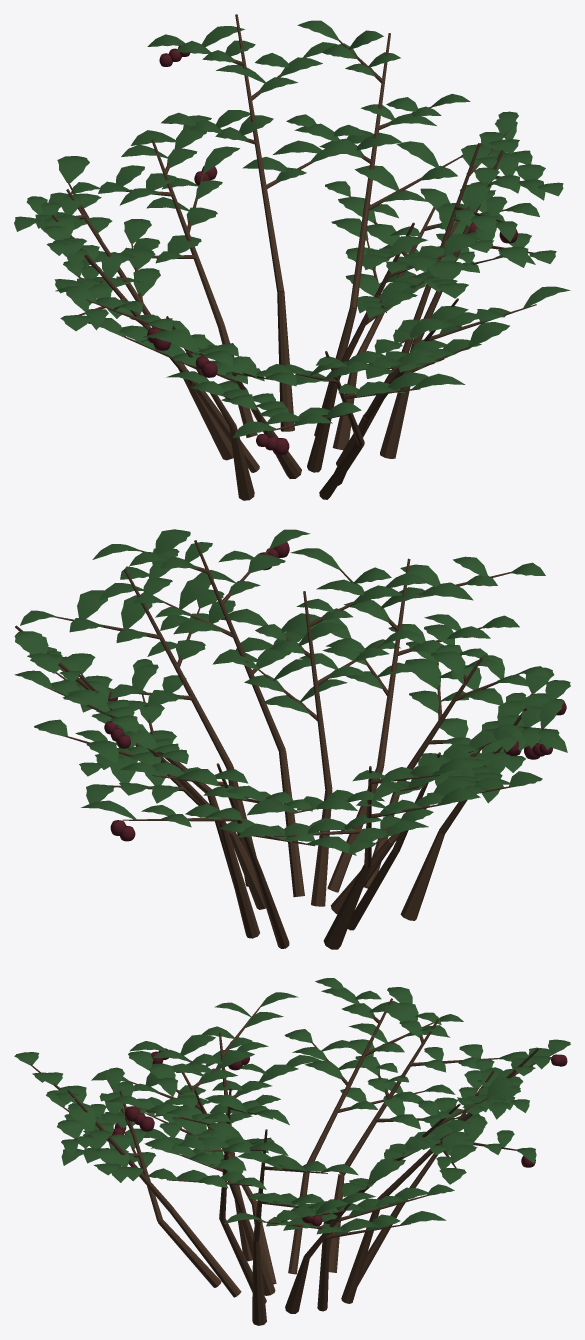
Rendered from detail_shrub.glb.
The picture shows the model from 3 angles, top to bottom: view 1: azimuth 30°, elevation 25°; view 2: azimuth 150°, elevation 25°; view 3: azimuth 270°, elevation 25°; orthographic projection. The views are drawn at different scales.
Visible parts, largest first — view 1: IndividualShrubLeaves, Cone.067, Cone.019, Cone.066, Cone, Cone.037, Cone.060, Cone.006, Cone.072, Cone.031, Cone.054, Cone.042 (+1 smaller); view 2: IndividualShrubLeaves, Cone.066, Cone.006, Cone.001, Cone.072, Cone.031, Cone.030, Cone.061, Cone.013, Cone.060, Cone.048, Cone.012 (+4 smaller); view 3: IndividualShrubLeaves, Cone, Cone.012, Cone.066, Cone.055, Cone.007, Cone.042, Cone.018, Cone.048, Cone.067, Cone.013, Cone.006 (+6 smaller).
Boxes of the visible parts, bbox=[...] form: IndividualShrubLeaves: bbox=[14, 20, 570, 437]; Cone.067: bbox=[235, 14, 284, 292]; Cone.019: bbox=[349, 33, 390, 309]; Cone.066: bbox=[277, 292, 294, 431]; Cone: bbox=[380, 342, 415, 458]; Cone.037: bbox=[151, 139, 224, 326]; Cone.060: bbox=[307, 378, 337, 472]; Cone.006: bbox=[178, 365, 233, 460]; Cone.072: bbox=[229, 425, 254, 500]; Cone.031: bbox=[401, 143, 480, 353]; Cone.054: bbox=[191, 382, 259, 472]; Cone.042: bbox=[319, 443, 364, 499]; IndividualShrubLeaves: bbox=[14, 529, 570, 855]; Cone.066: bbox=[218, 821, 259, 938]; Cone.006: bbox=[323, 864, 371, 949]; Cone.001: bbox=[124, 569, 232, 768]; Cone.072: bbox=[400, 831, 444, 920]; Cone.031: bbox=[194, 540, 285, 751]; Cone.030: bbox=[279, 750, 304, 897]; Cone.061: bbox=[303, 591, 332, 790]; Cone.013: bbox=[376, 558, 410, 768]; Cone.060: bbox=[311, 790, 332, 906]; Cone.048: bbox=[230, 831, 265, 909]; Cone.012: bbox=[327, 767, 383, 892]; IndividualShrubLeaves: bbox=[14, 978, 570, 1234]; Cone: bbox=[252, 1240, 266, 1325]; Cone.012: bbox=[169, 1208, 241, 1297]; Cone.066: bbox=[341, 1207, 380, 1303]; Cone.055: bbox=[307, 998, 392, 1163]; Cone.007: bbox=[339, 1019, 438, 1175]; Cone.042: bbox=[158, 1220, 221, 1287]; Cone.018: bbox=[317, 1222, 329, 1311]; Cone.048: bbox=[285, 1256, 309, 1313]; Cone.067: bbox=[377, 1048, 539, 1199]; Cone.013: bbox=[67, 1089, 173, 1211]; Cone.006: bbox=[328, 1174, 344, 1272].
Bounding box in the file's own units: 1.52 × 0.9725 × 1.75.
